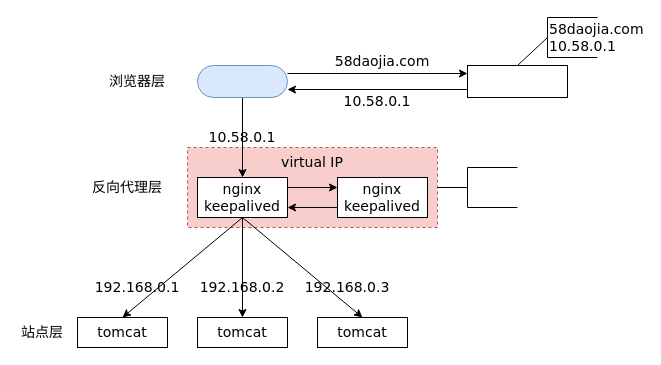
The diagram is 661 pixels wide and 365 high, and some of its shapes have lost their labels. The box of each missing label's shape, as (x1, y1, x2, y2) in pixels:
browser: (196, 64, 288, 98)
DNS-server: (466, 64, 568, 98)
通过keepalived 可以保证nginx可用性: (466, 166, 518, 208)
